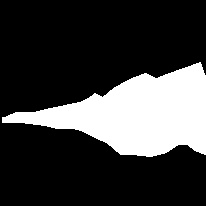Fire: (1, 66, 206, 161)
